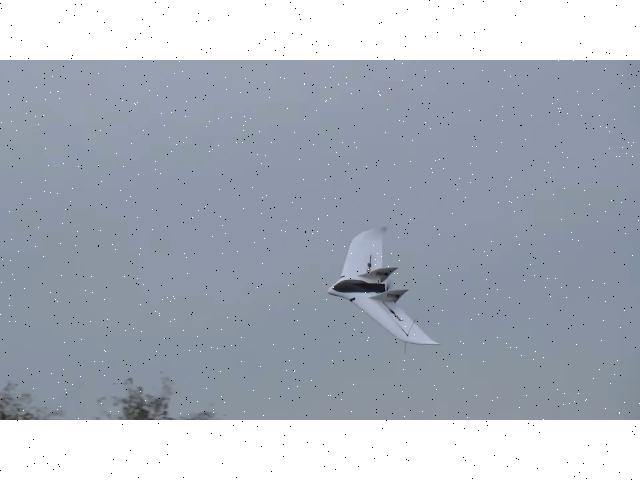Anti-Drone: (328, 226, 444, 344)
